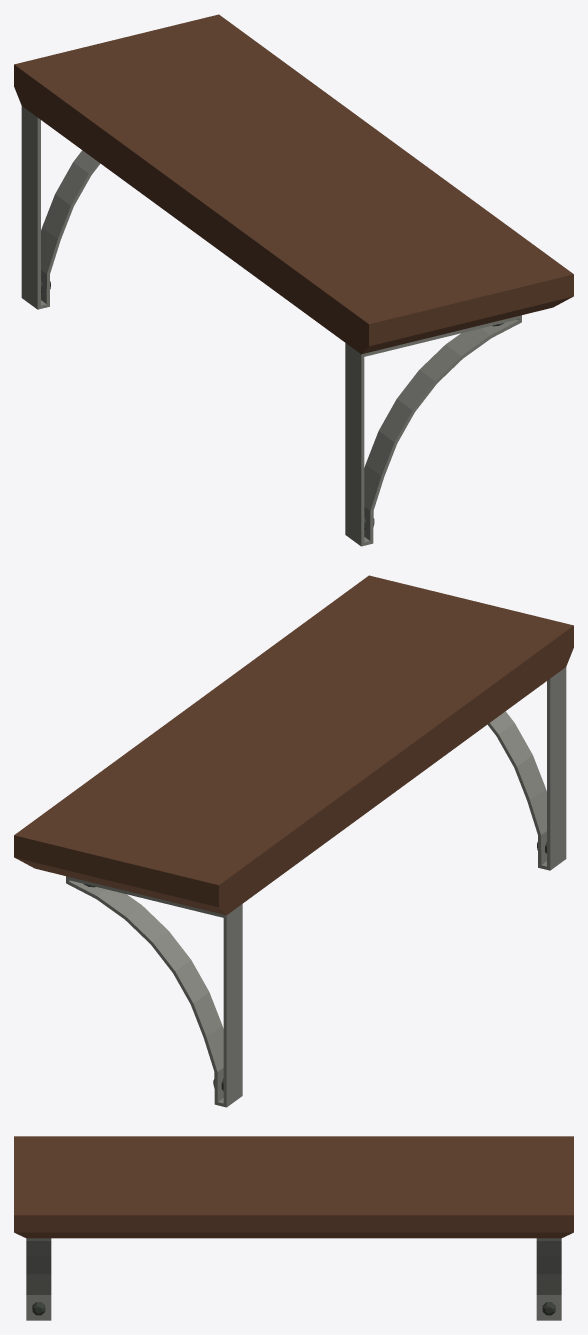
The model's file is etagere mur.fbx.
The picture shows the model from 3 angles, top to bottom: view 1: azimuth 30°, elevation 25°; view 2: azimuth 150°, elevation 25°; view 3: azimuth 270°, elevation 25°; orthographic projection. The views are drawn at different scales.
Parts seen in each view (by area): view 1: Cube; view 2: Cube; view 3: Cube.
Part boxes in pixels (x1,y1,x2,y2): Cube: (14,14,573,546); Cube: (14,575,573,1107); Cube: (14,1136,573,1320).
Size of the model in its own units: 30 by 31.88 by 90.
